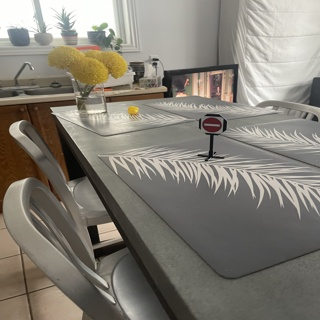sign_noentry: (196, 112, 220, 132)
